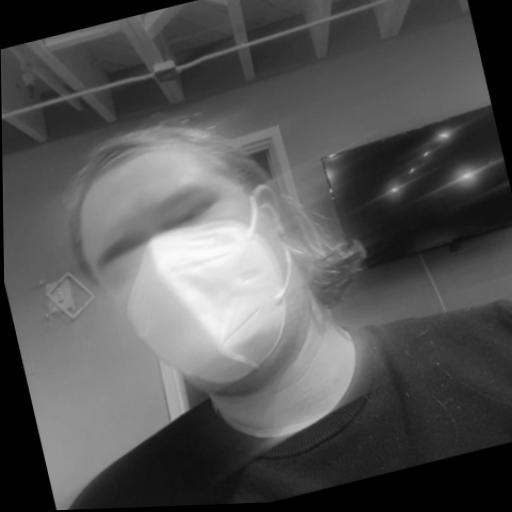mask: (32, 40, 426, 476)
